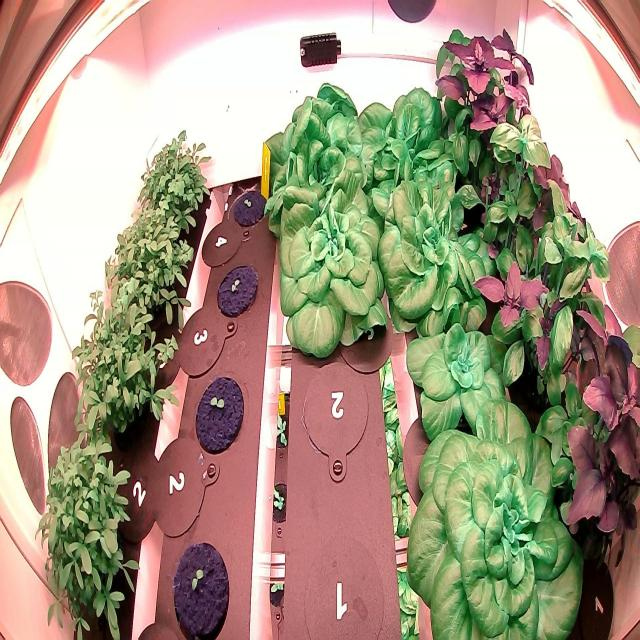Ready: (397, 393, 593, 640), (258, 148, 407, 366), (369, 176, 495, 349), (255, 71, 377, 239), (356, 83, 465, 224)
empty_pod: (300, 526, 388, 640), (298, 358, 371, 486)
germination: (165, 534, 233, 640), (192, 368, 248, 462), (214, 255, 260, 328), (228, 183, 268, 234)
young: (402, 293, 522, 442)
